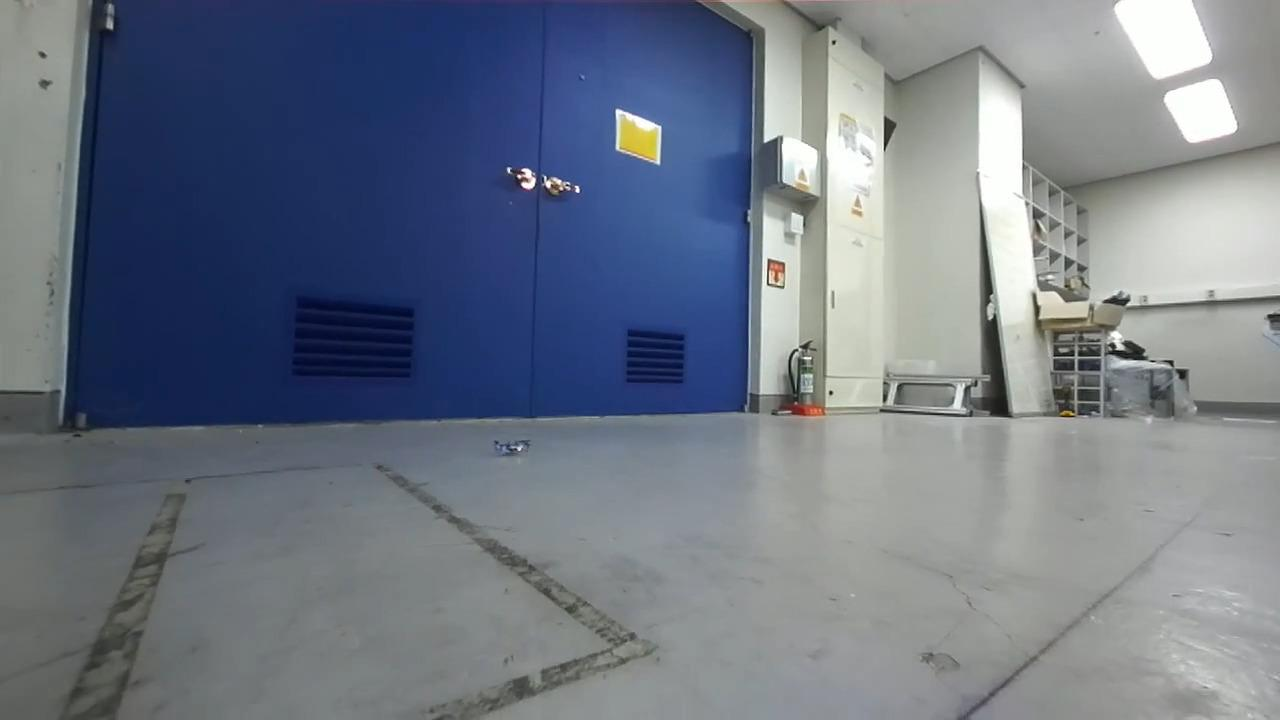crazyflie: (485, 432, 535, 462)
